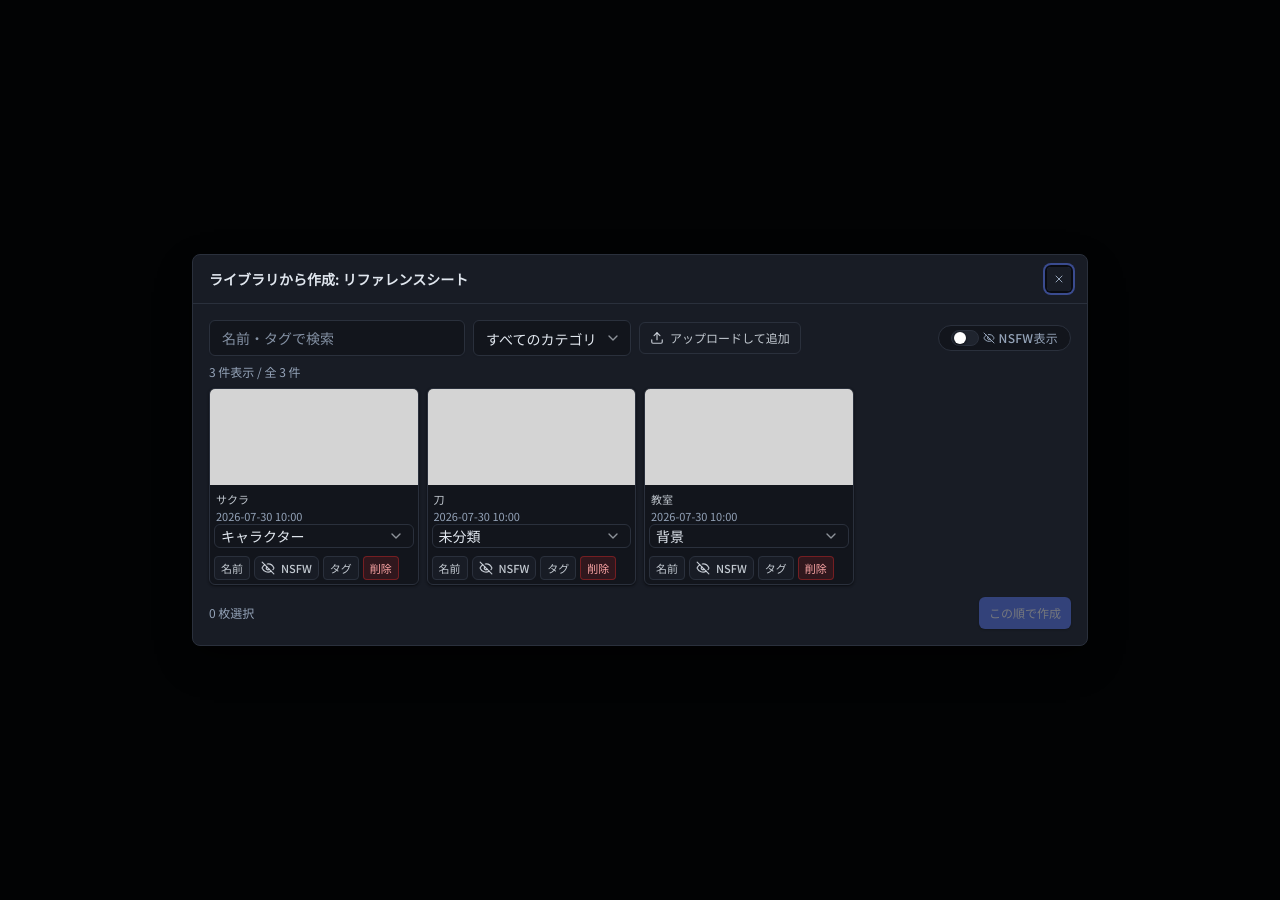
Test: SheetBuilderModal › 選んだ順にバッジを振り、もう一度押すと外れる
Step 1. Click the text "刀" → (439, 499), box [434,491,444,507]
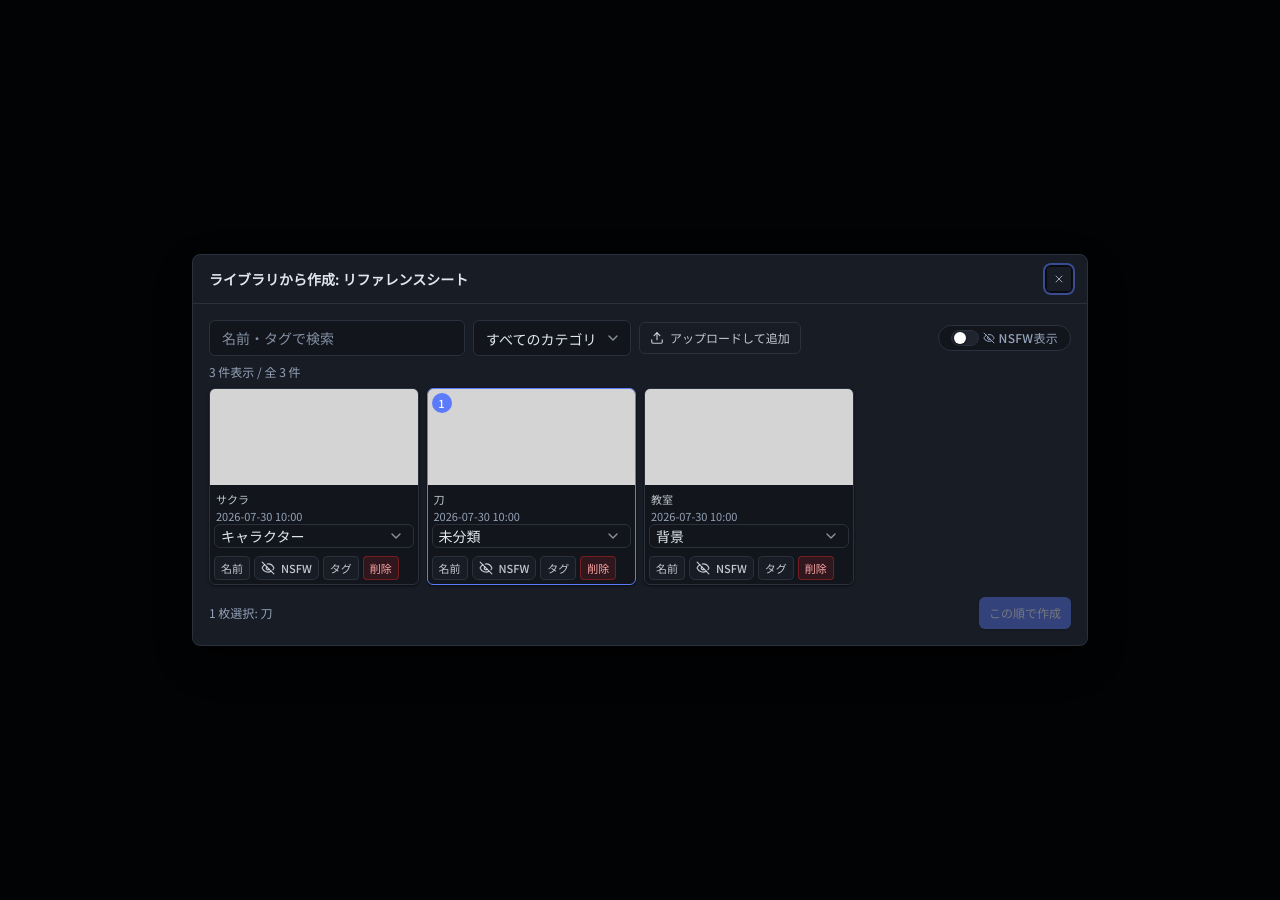
Step 2. Click the text "サクラ" → (232, 499), box [216,491,249,507]
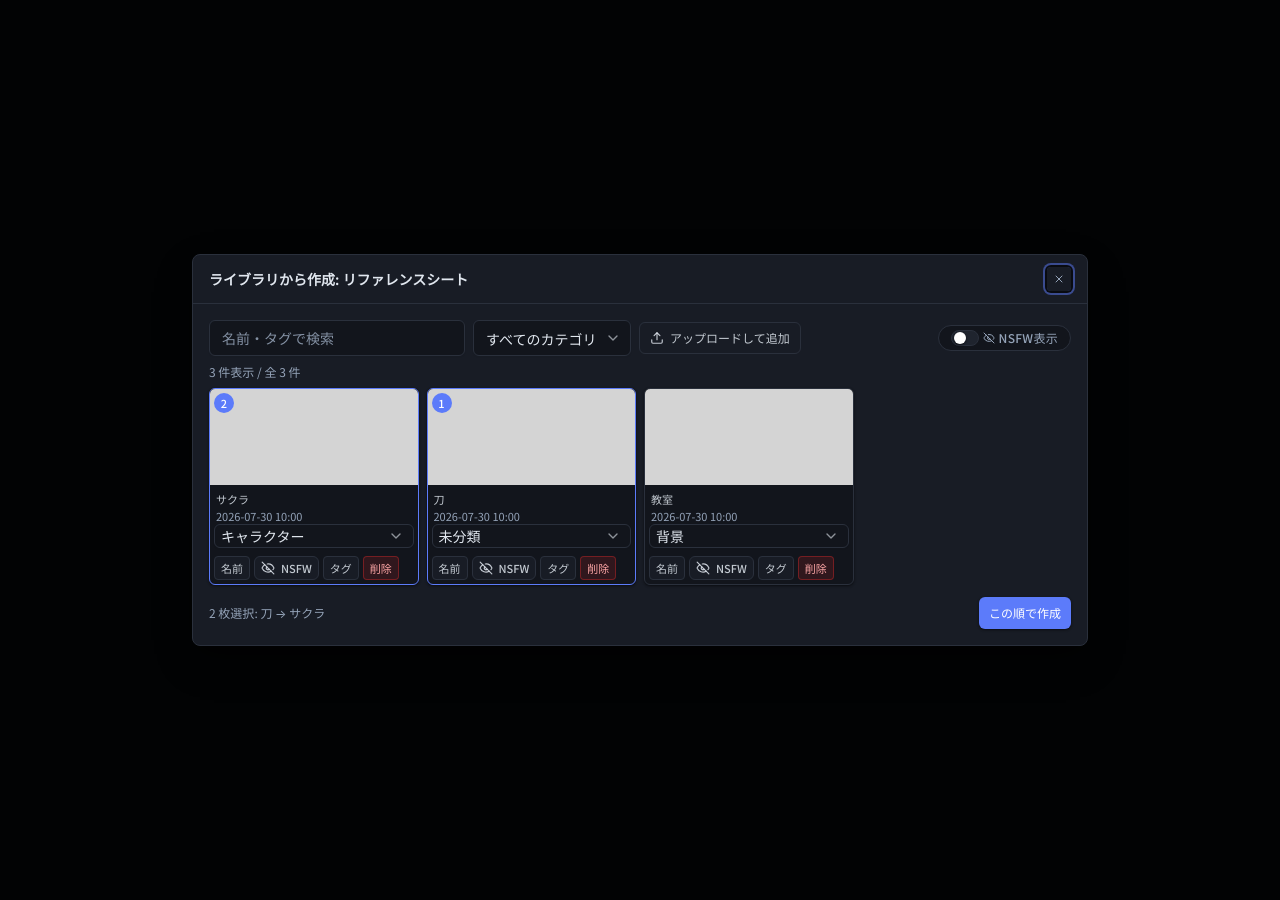
Expected: the text named "「刀」の選択順" reads "1", [438,395,445,411]
Expected: the text named "「サクラ」の選択順" reads "2", [221,395,227,411]
Step 3. Click the text "刀" → (439, 499), box [434,491,444,507]
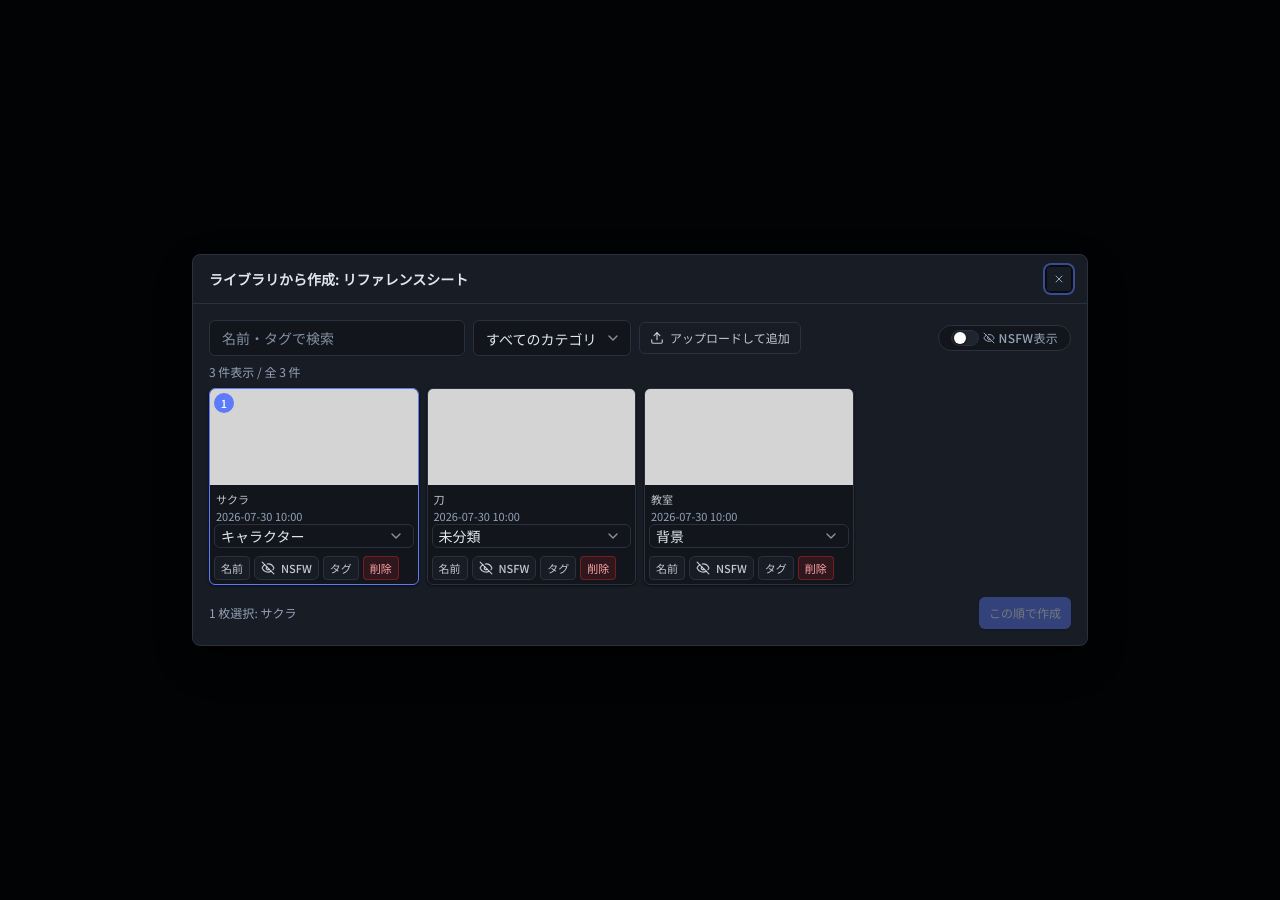
Expected: the text labelled "「刀」の選択順" is gone
Expected: the text named "「サクラ」の選択順" reads "1", [221,395,227,411]
